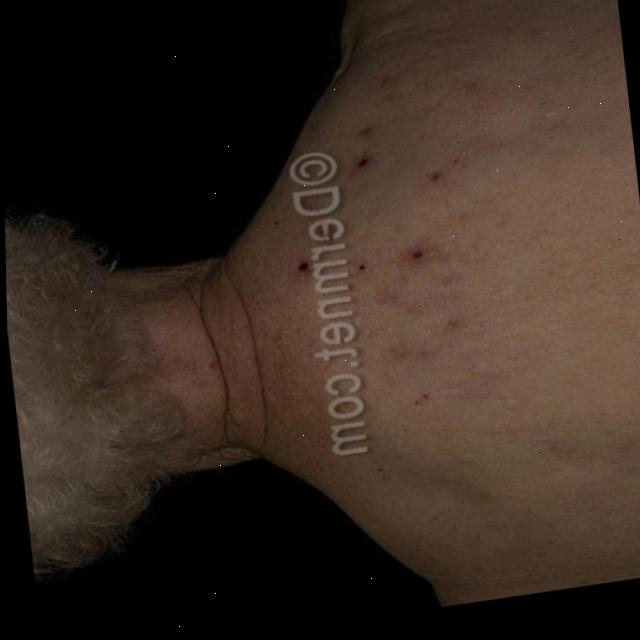Eczema: (267, 105, 523, 414)
